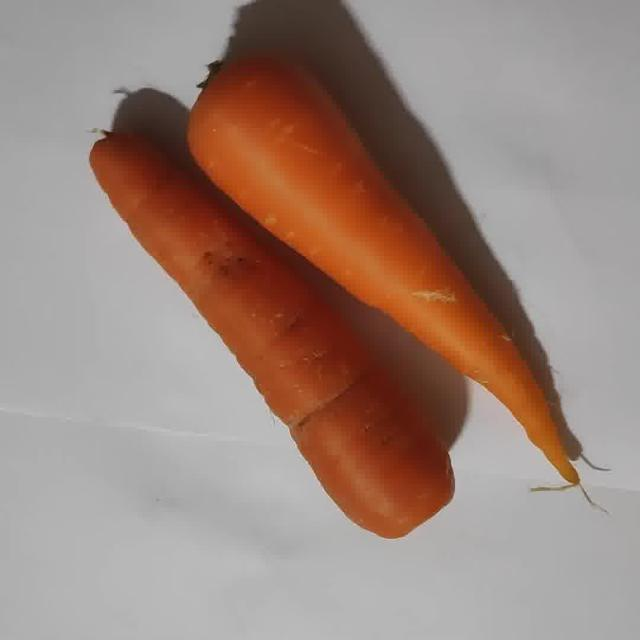Carrot: (191, 58, 577, 479), (91, 132, 453, 538)
